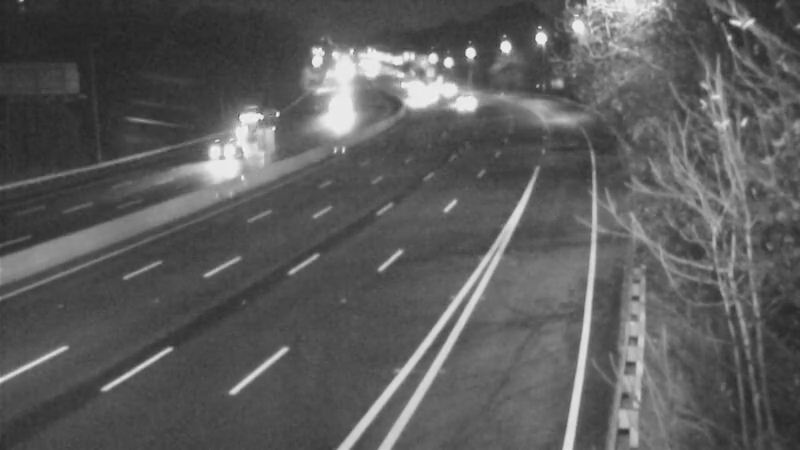vehicle: (179, 115, 259, 195), (393, 70, 443, 120), (440, 79, 490, 129), (225, 107, 275, 157)
